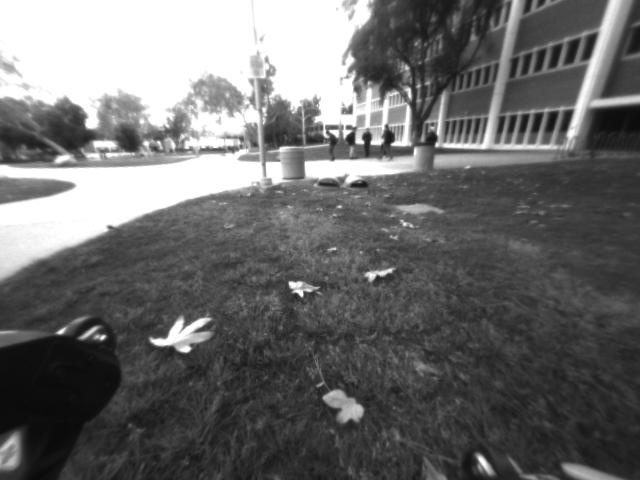trashcan: (276, 143, 313, 186), (409, 142, 436, 176)
